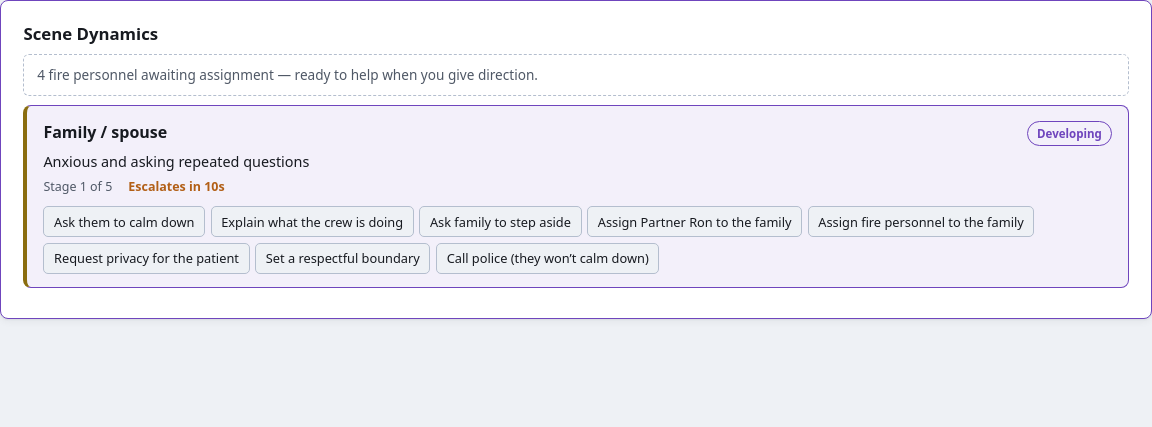
SceneDynamics — management (§20) › assigning a responder marks it Being Managed and pauses escalation (real crew)
Click the button "Assign Partner Ron to the family" at (695, 222), box [587, 206, 802, 237]
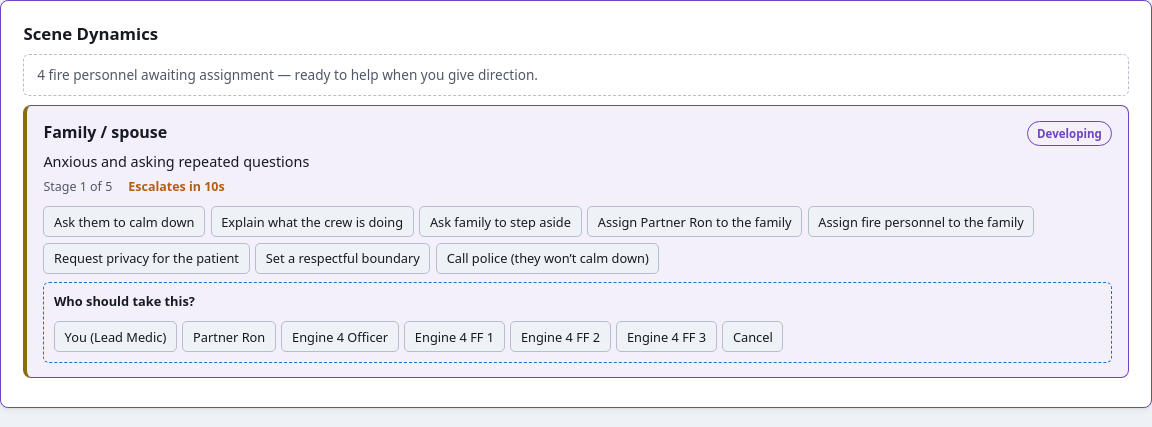
// Choose Partner Ron from the picker.
Click the button "Partner Ron" at (229, 337), box [182, 321, 276, 352]
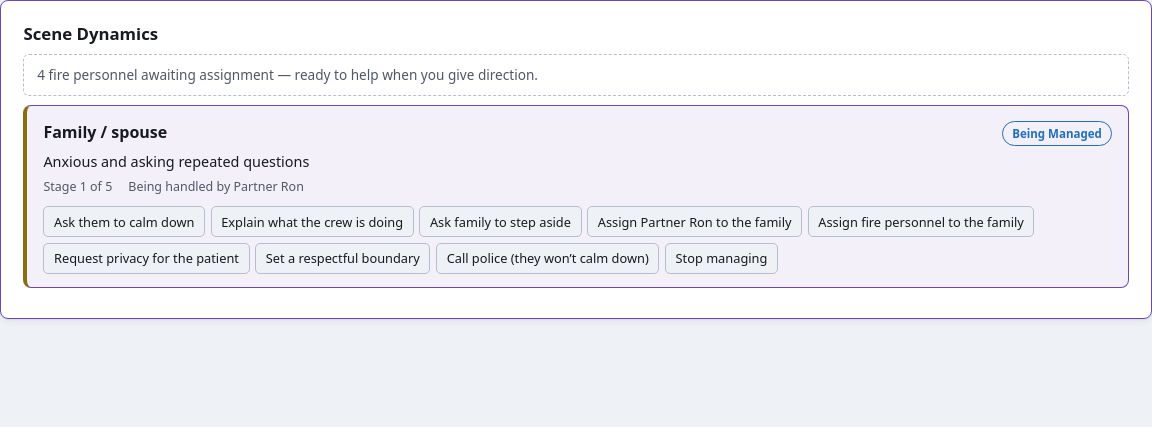
Expected: the text "Stage 1 of 5" is shown, [43, 178, 112, 196]
Expected: the text "Being Managed" is shown, [1002, 121, 1112, 146]
